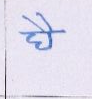e_matra: (35, 12, 56, 31)
